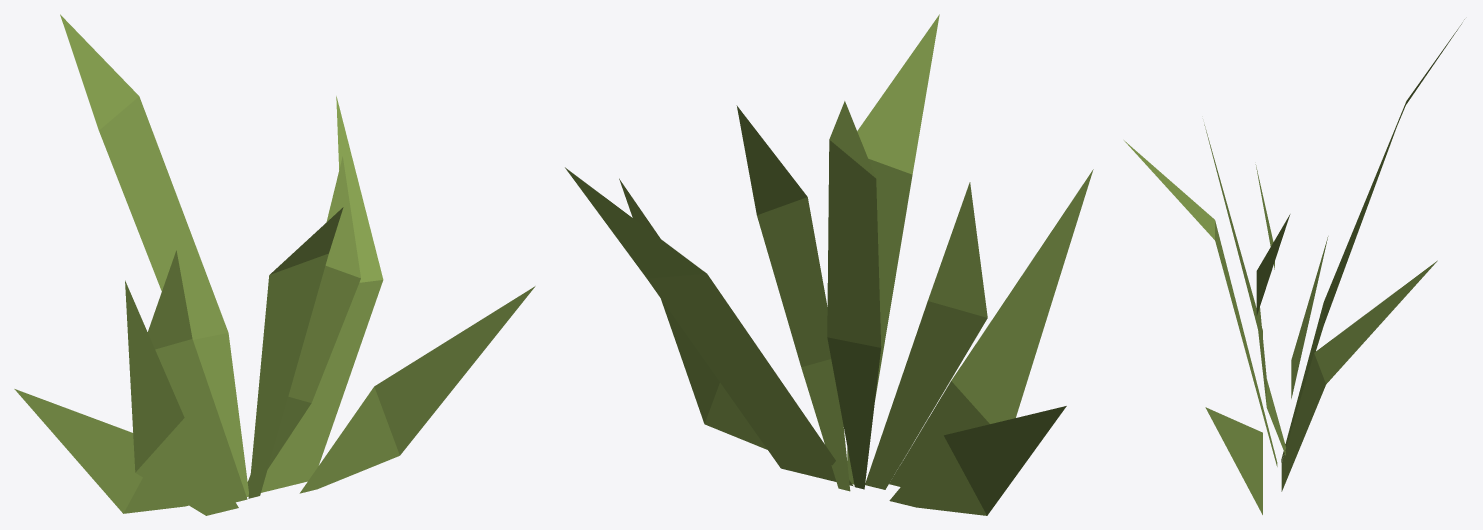
File: grass_01.fbx
3 views of the same model, side by side, from view 1: azimuth 30°, elevation 25°; view 2: azimuth 150°, elevation 25°; view 3: azimuth 270°, elevation 25° (orthographic). The views are drawn at different scales.
Parts seen in each view (by area): view 1: grass_01; view 2: grass_01; view 3: grass_01.
Boxes of the visible parts, x1,y1,x2,y2 form: grass_01: (14, 14, 535, 515); grass_01: (565, 14, 1093, 515); grass_01: (1124, 19, 1464, 514).
Bounding box in the file's own units: 125 × 113 × 87.07.
